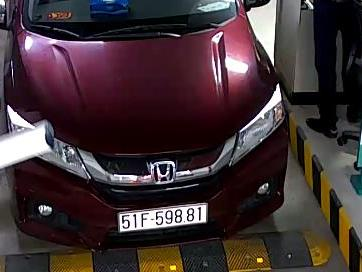number: (119, 204, 206, 232)
